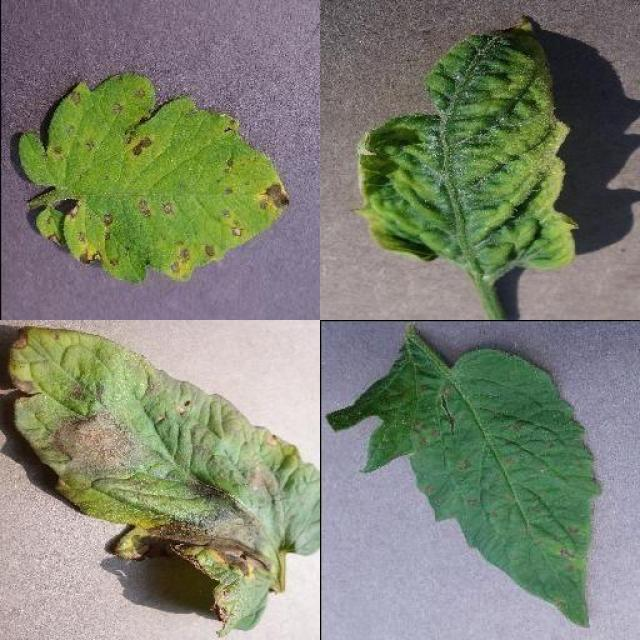Late Blight: (8, 326, 318, 640)
Septoria: (325, 348, 597, 630), (13, 71, 288, 285)
